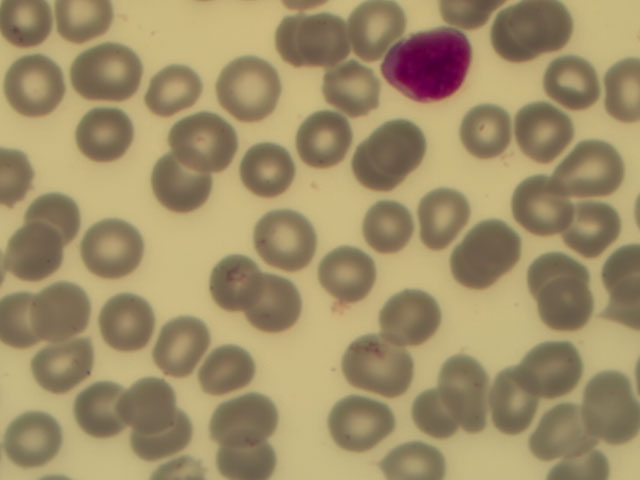RBC: (77, 40, 144, 106), (1, 55, 68, 121), (72, 97, 139, 163), (21, 181, 88, 247), (2, 218, 69, 284), (80, 216, 147, 282), (33, 279, 100, 345), (30, 325, 97, 391), (63, 378, 130, 444), (111, 367, 178, 433), (128, 392, 195, 458), (144, 311, 211, 377), (95, 290, 162, 356), (186, 329, 253, 395), (208, 377, 275, 443), (211, 414, 278, 480), (322, 392, 389, 458), (371, 414, 438, 480), (398, 388, 465, 454), (420, 352, 487, 418), (463, 362, 530, 428), (522, 334, 589, 400), (522, 391, 589, 457), (573, 370, 640, 436), (530, 280, 597, 346), (522, 237, 589, 303), (471, 218, 538, 284), (442, 233, 509, 299), (412, 188, 479, 254), (355, 191, 422, 257), (313, 237, 380, 303), (254, 207, 321, 273), (200, 248, 267, 314), (248, 271, 315, 337), (152, 154, 219, 220), (172, 113, 239, 179), (137, 62, 204, 128), (208, 56, 275, 122), (263, 8, 330, 74), (320, 50, 387, 116), (292, 104, 359, 170), (367, 108, 434, 174), (339, 137, 406, 203), (449, 99, 516, 165), (509, 94, 576, 160), (538, 57, 605, 123), (487, 1, 554, 67), (554, 129, 621, 195), (508, 177, 575, 243), (550, 188, 617, 254), (352, 334, 419, 400), (382, 284, 449, 350), (1, 290, 67, 356), (1, 406, 67, 472), (332, 1, 399, 66), (55, 1, 108, 46), (1, 1, 53, 46)
WBC: (385, 25, 473, 105)
